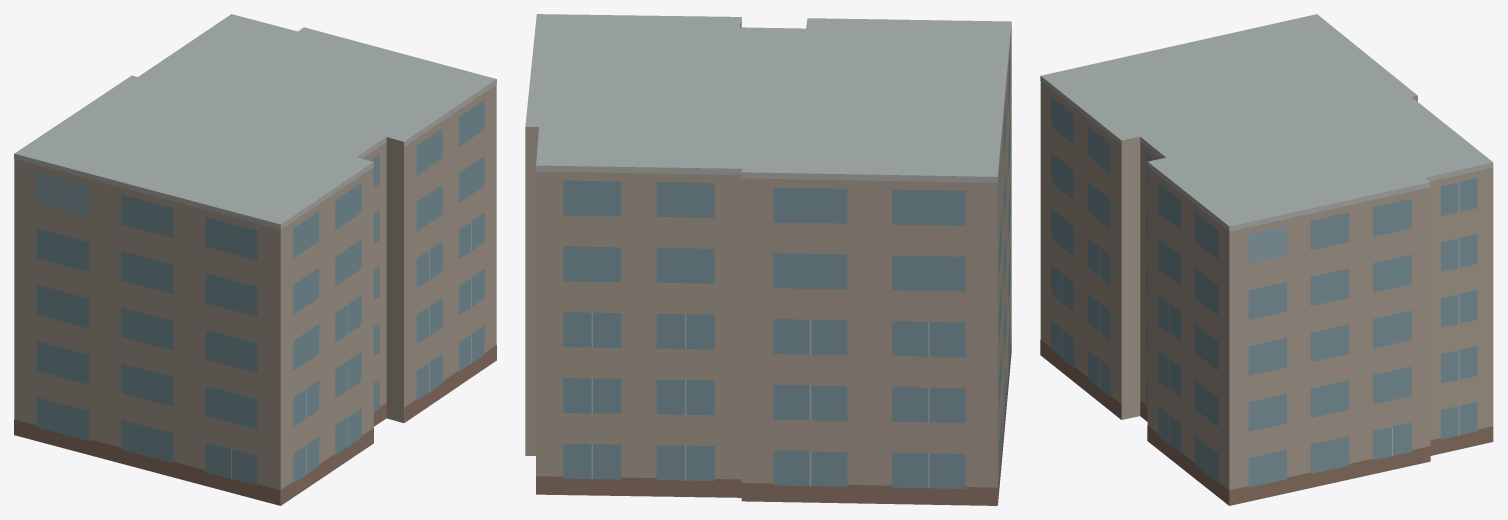
The model's file is survey-upis-32671902.glb.
3 renders of one model, left to right at view 1: azimuth 30°, elevation 25°; view 2: azimuth 150°, elevation 25°; view 3: azimuth 270°, elevation 25°, orthographic. The views are drawn at different scales.
Parts seen in each view (by area): view 1: survey-upis-32671902.tmp; view 2: survey-upis-32671902.tmp; view 3: survey-upis-32671902.tmp.
Part boxes in pixels (bbox=[...]): survey-upis-32671902.tmp: bbox=[14, 14, 496, 505]; survey-upis-32671902.tmp: bbox=[525, 14, 1011, 505]; survey-upis-32671902.tmp: bbox=[1040, 14, 1493, 505].
Size of the model in its own units: 21.53 by 13.2 by 19.4.
